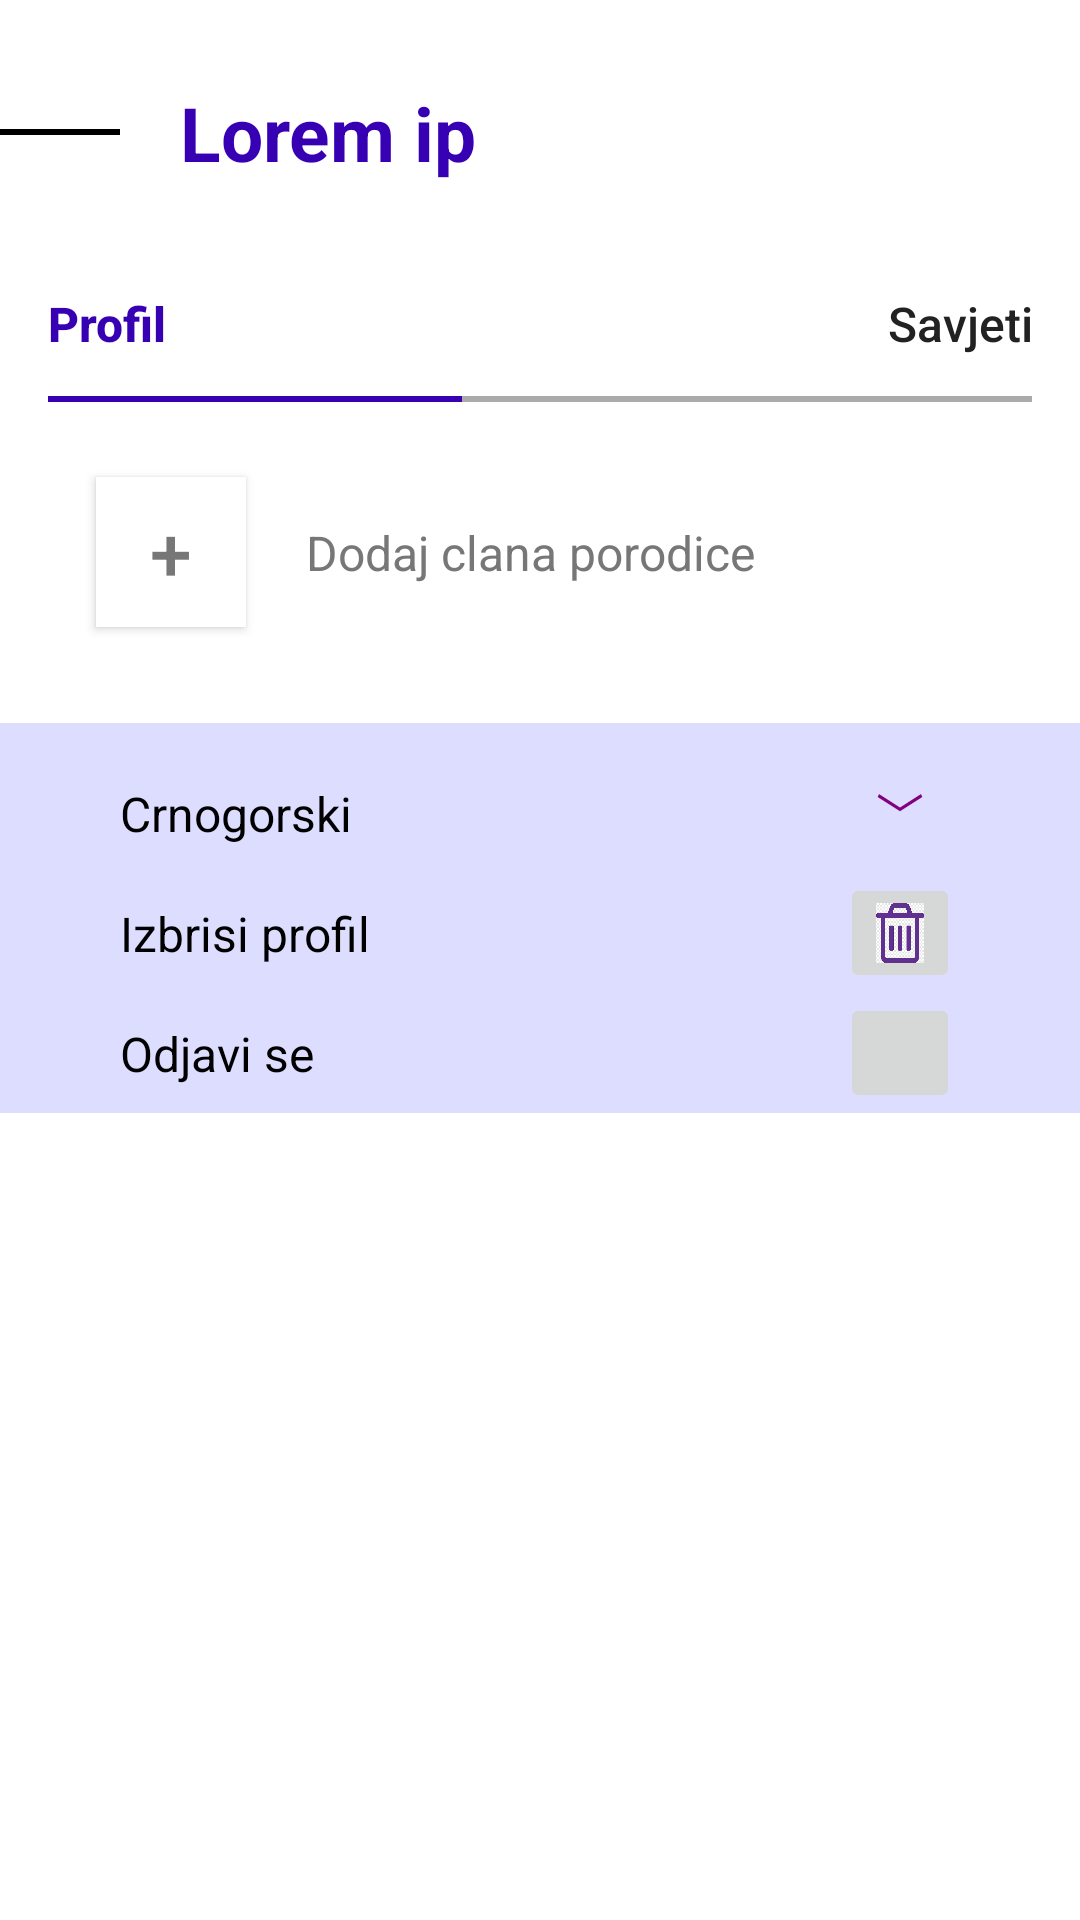

Point at icon controls on the screen. Image size 1080w x 1920h, points as point (x, y).
bin: point (900, 933)
